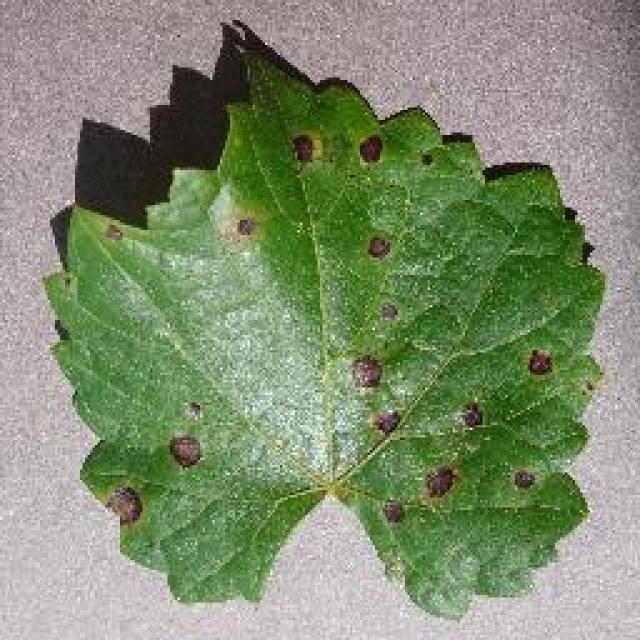Grape___Black_rot: (37, 45, 609, 628)
